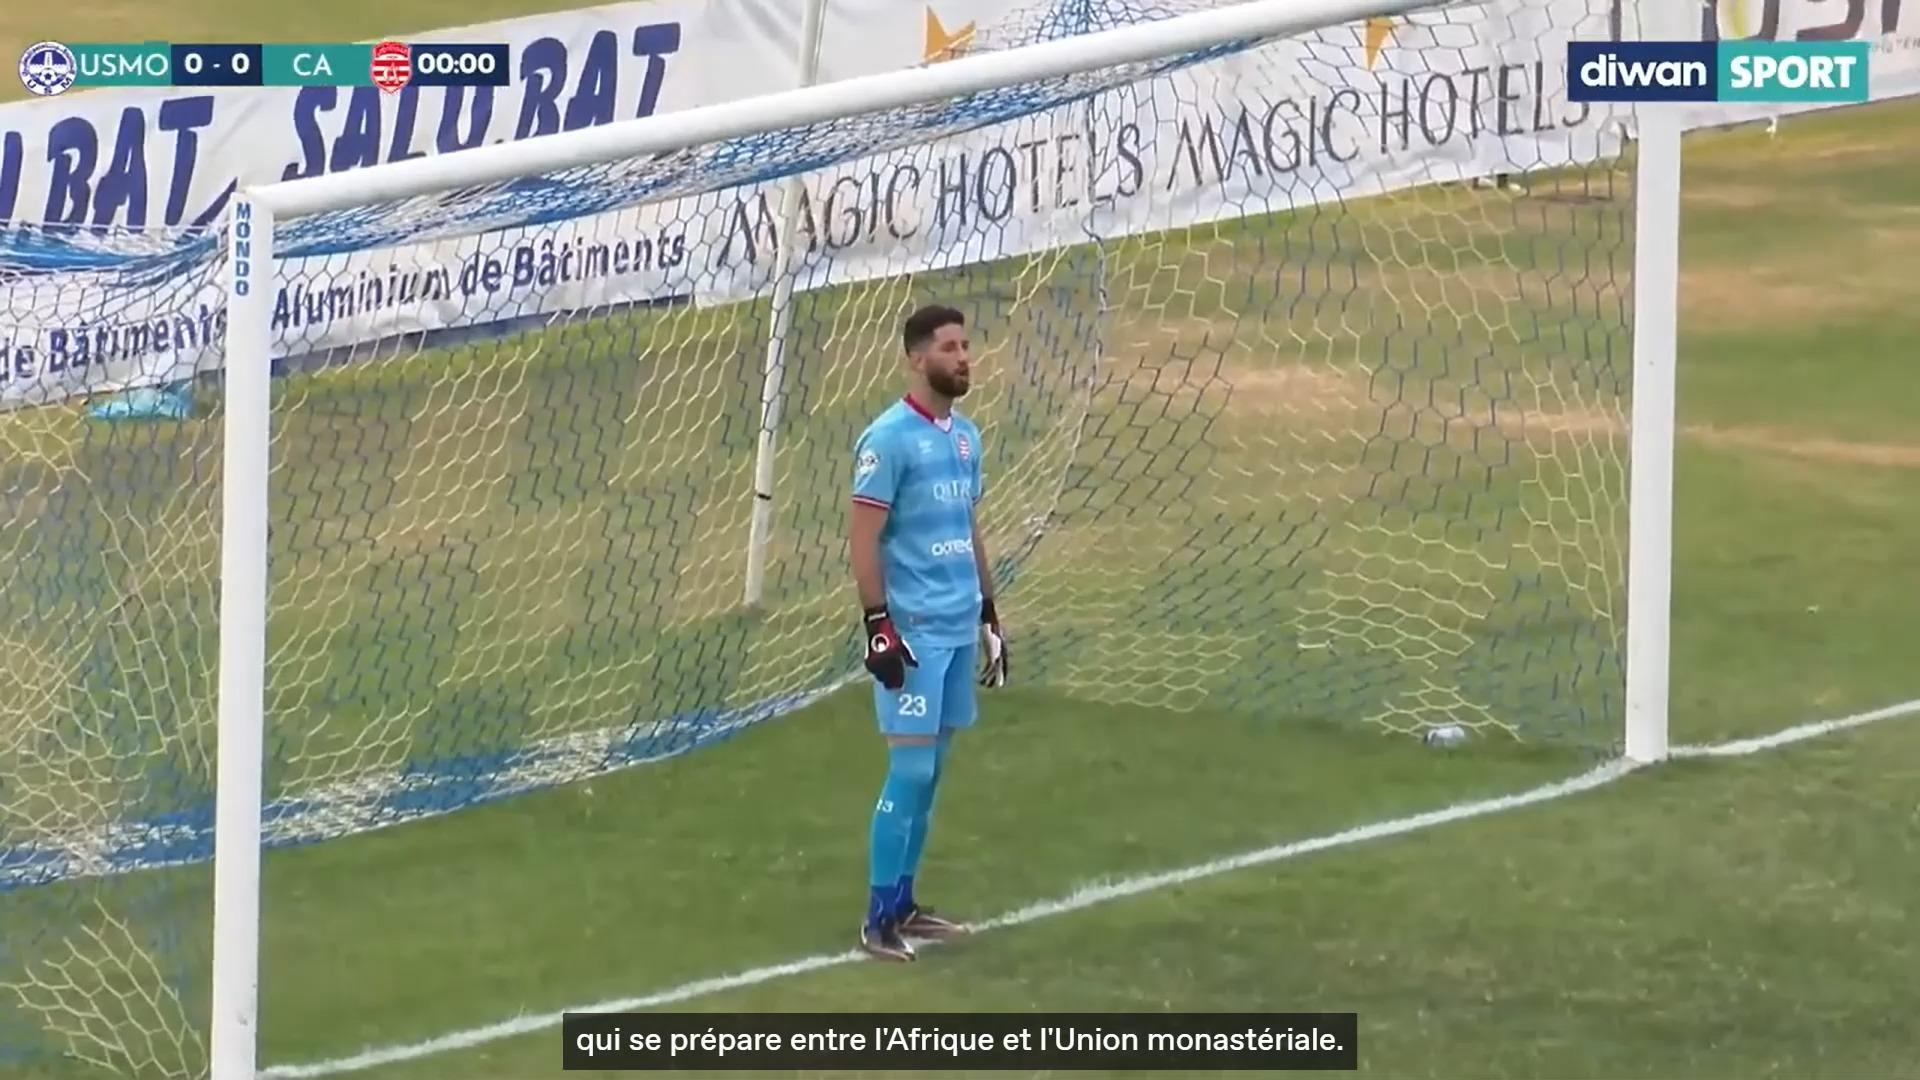goalkeeper: (811, 281, 1047, 960)
